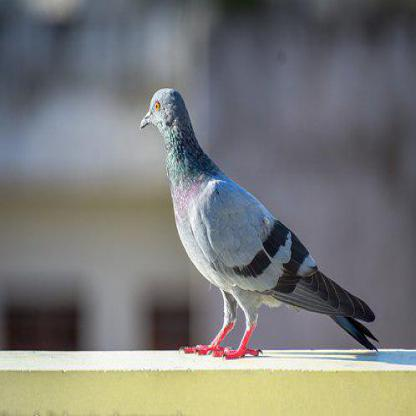Rock Pigeon: (140, 87, 376, 349)
